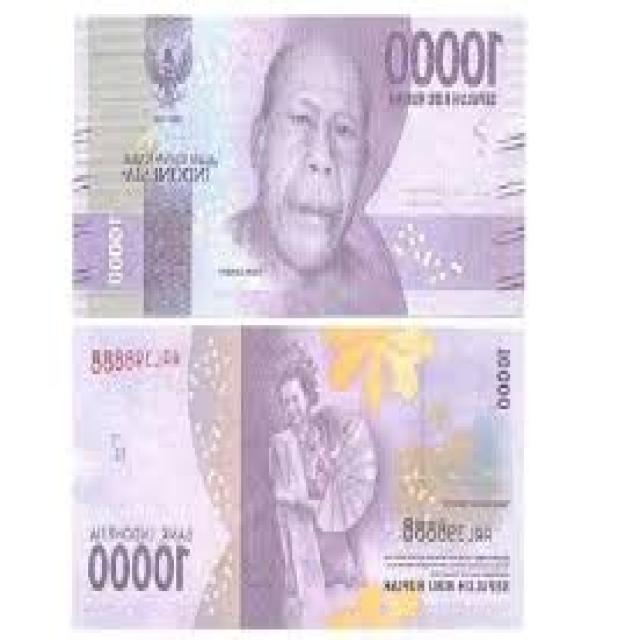sepuluh ribu rupiah: (77, 325, 522, 626), (77, 21, 524, 311)
